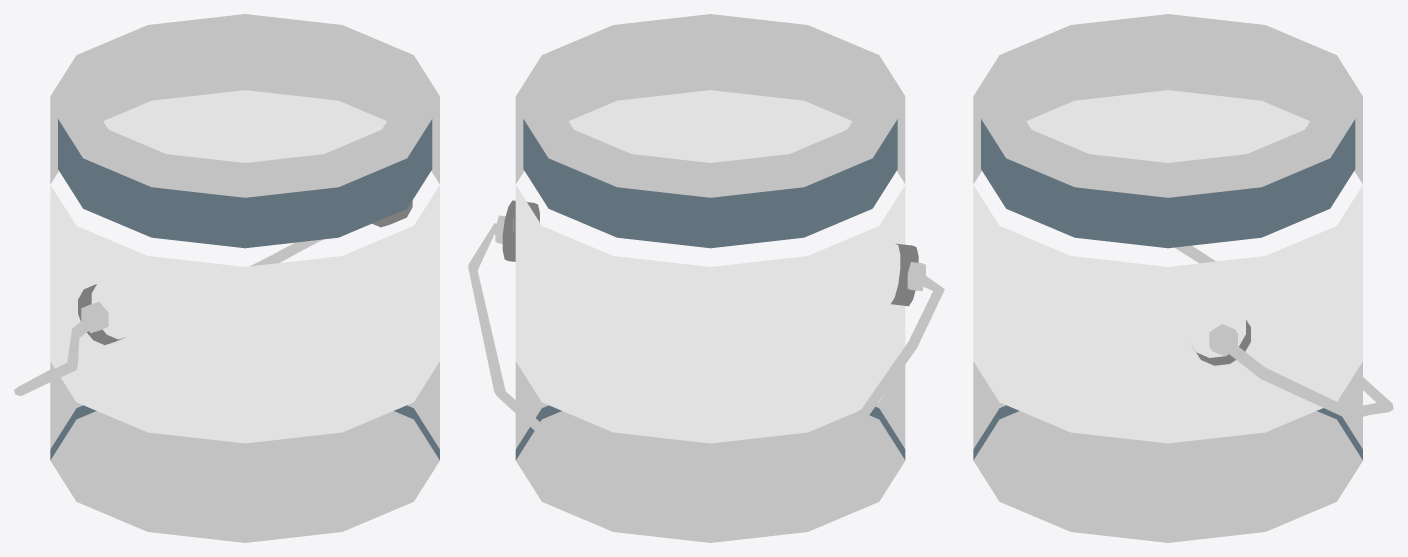
File: paint_can.glb
The picture shows the model from 3 angles, left to right: view 1: azimuth 30°, elevation 25°; view 2: azimuth 150°, elevation 25°; view 3: azimuth 270°, elevation 25°; orthographic projection.
Parts seen in each view (by area): view 1: paintcan_body, paintcan_paint; view 2: paintcan_body, paintcan_paint; view 3: paintcan_body, paintcan_paint.
Boxes of the visible parts, x1,y1,x2,y2 form: paintcan_body: (14, 14, 439, 542); paintcan_paint: (50, 90, 439, 443); paintcan_body: (468, 14, 944, 542); paintcan_paint: (515, 90, 905, 443); paintcan_body: (973, 14, 1393, 542); paintcan_paint: (973, 90, 1362, 443).
Bounding box in the file's own units: 0.1722 × 0.15 × 0.1568.
